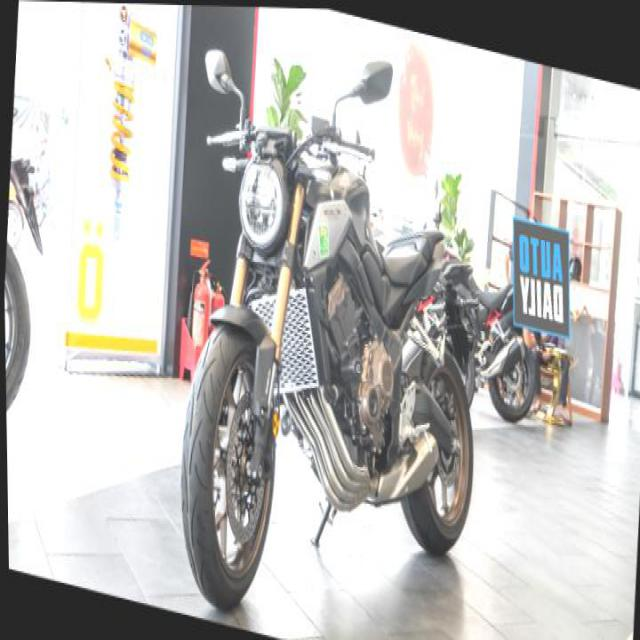CB650R: (163, 94, 495, 638)
